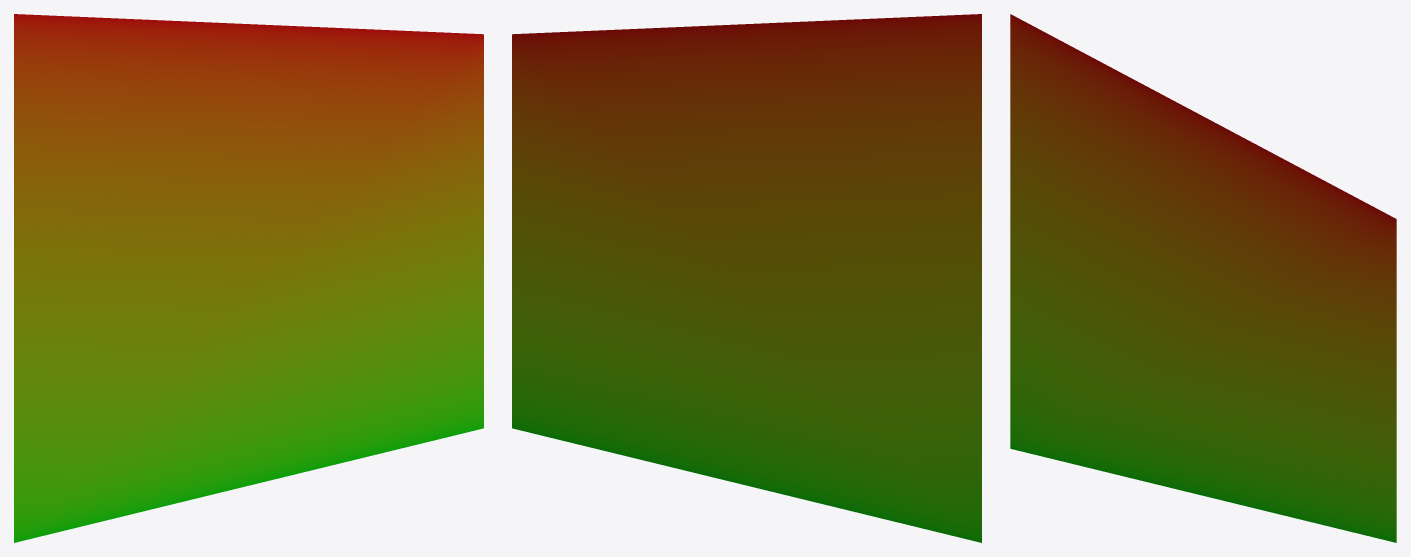
Rendered from Arrowhead Plant_LOD3_Var3_sjsmD.fbx.
3 views of the same model, side by side, from view 1: azimuth 30°, elevation 25°; view 2: azimuth 150°, elevation 25°; view 3: azimuth 330°, elevation 25° (orthographic). The views are drawn at different scales.
Visible parts, largest first — view 1: _3cc0_Var3_LOD3; view 2: _3cc0_Var3_LOD3; view 3: _3cc0_Var3_LOD3.
Boxes of the visible parts, bbox=[...] form: _3cc0_Var3_LOD3: bbox=[14, 14, 483, 542]; _3cc0_Var3_LOD3: bbox=[512, 14, 981, 542]; _3cc0_Var3_LOD3: bbox=[1010, 14, 1396, 542].
Bounding box in the file's own units: 48.98 × 52.71 × 7.4e-06.
